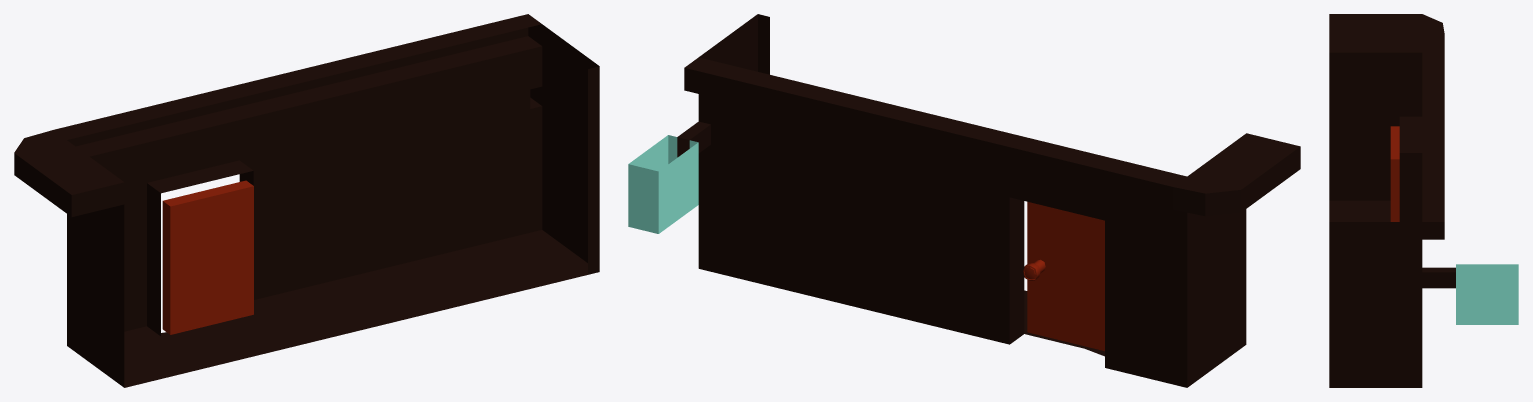
File: myhome@in_close_s.FBX
3 views of the same model, side by side, from view 1: azimuth 30°, elevation 25°; view 2: azimuth 150°, elevation 25°; view 3: azimuth 270°, elevation 25° (orthographic). The views are drawn at different scales.
Parts seen in each view (by area): view 1: Box001, Object001; view 2: Box001, Object001; view 3: Box001, Object001.
Boxes of the visible parts, bbox=[...] form: Box001: bbox=[14, 14, 599, 387]; Object001: bbox=[162, 180, 253, 334]; Box001: bbox=[628, 14, 1300, 387]; Object001: bbox=[1023, 201, 1104, 351]; Box001: bbox=[1329, 14, 1518, 387]; Object001: bbox=[1390, 126, 1399, 221].
Bounding box in the file's own units: 87.9 × 32.19 × 33.25.
